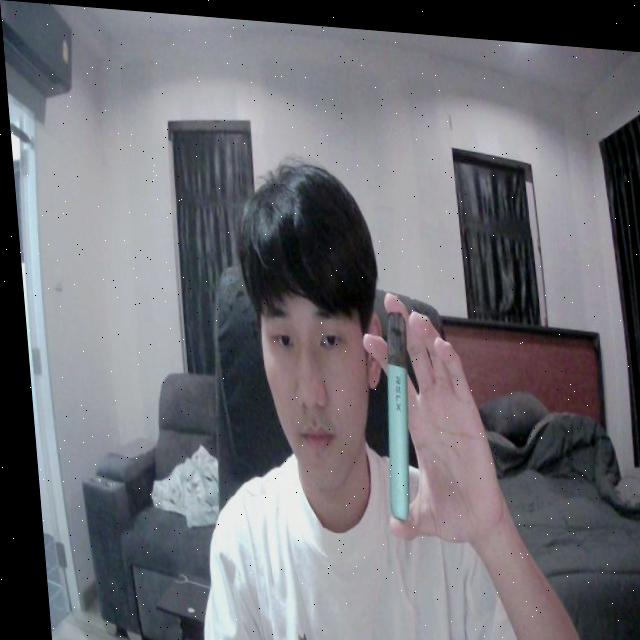vape: (369, 304, 417, 517)
